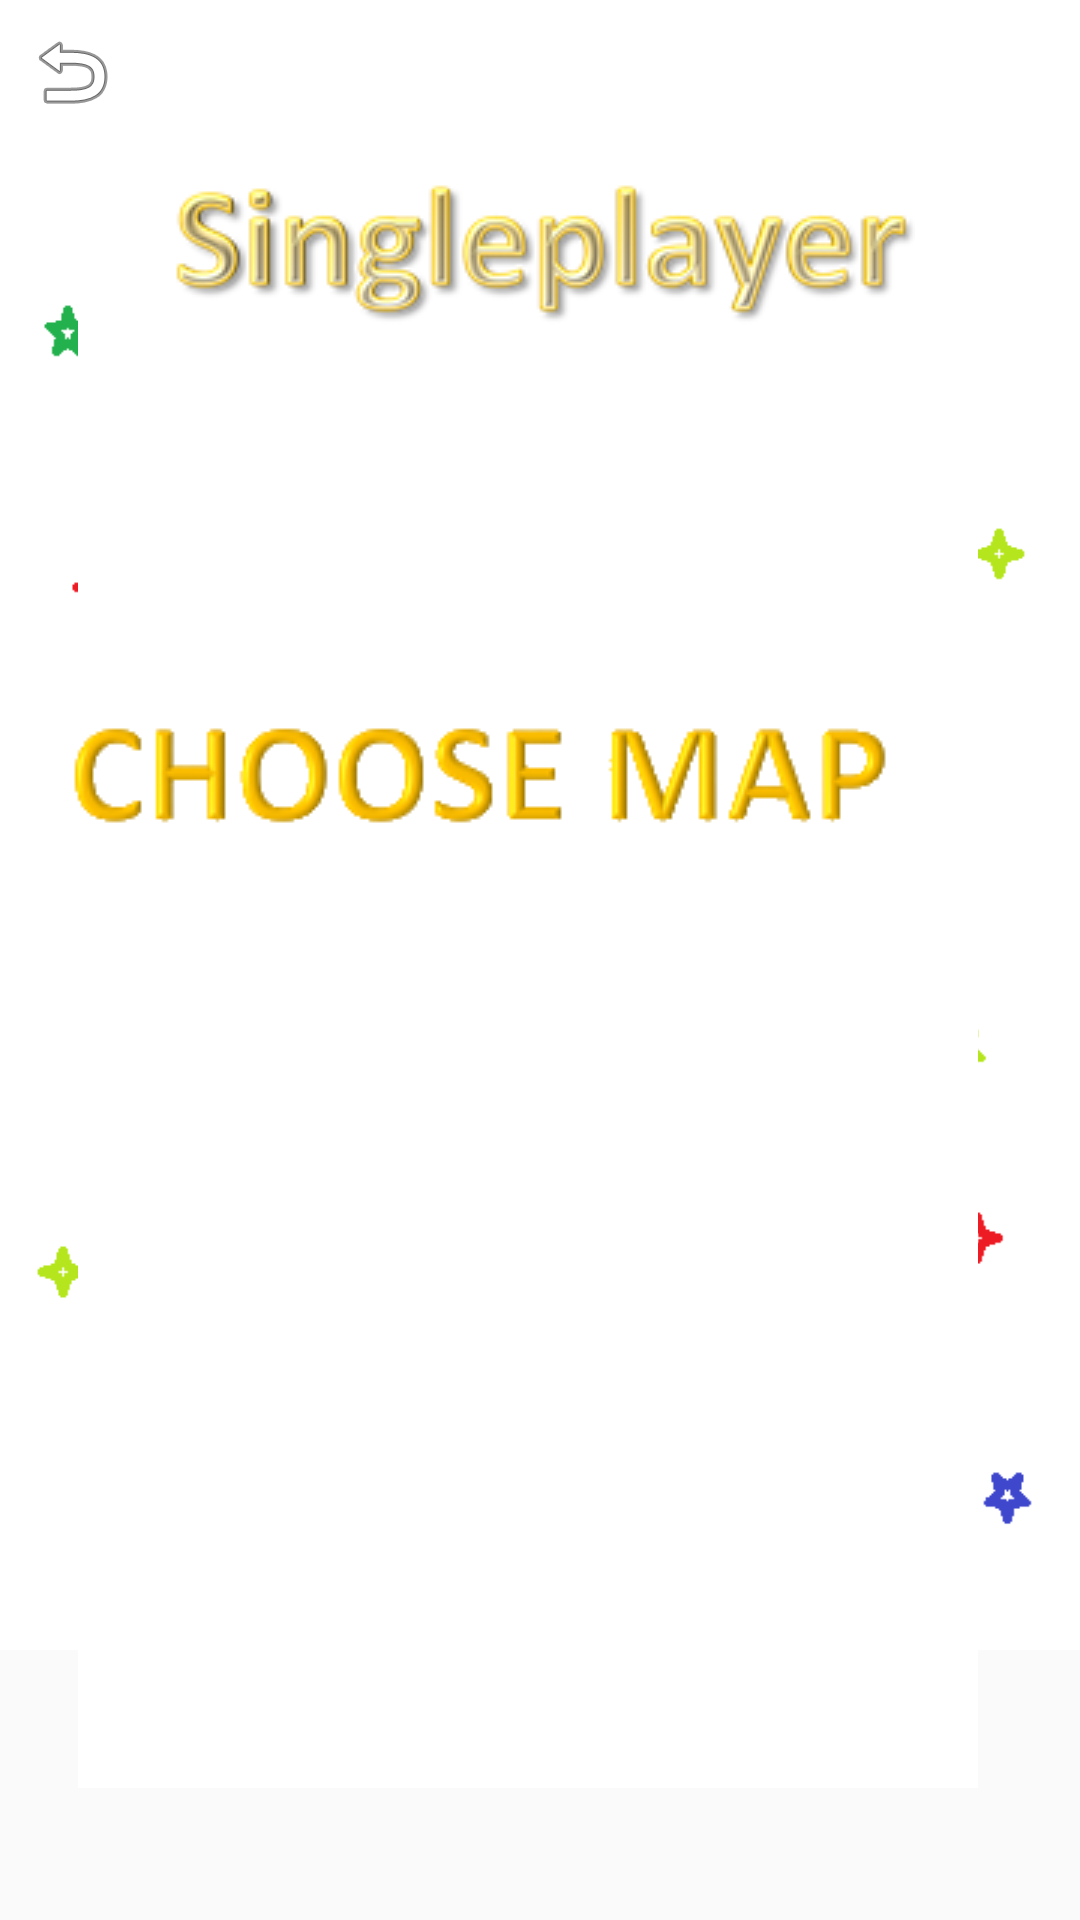

Point at icon controls on the screen. Image size 1080 × 1920, points as (x,y).
revert: (73,72)
